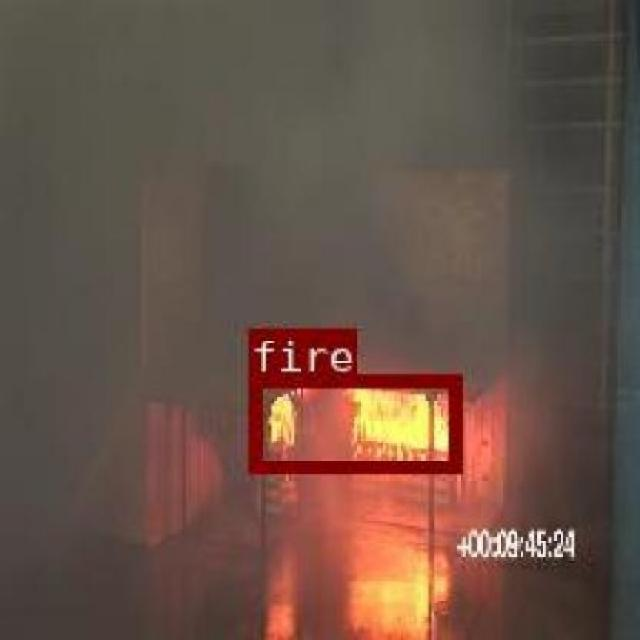Fire: (246, 373, 459, 470)
